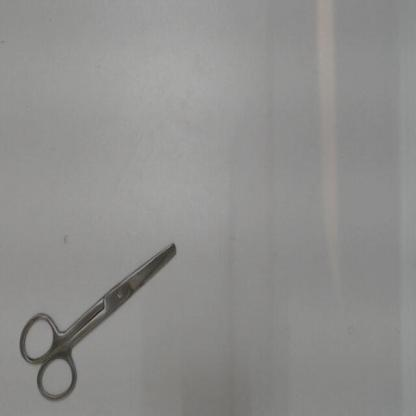Dressing Scissors: (11, 234, 186, 408)
